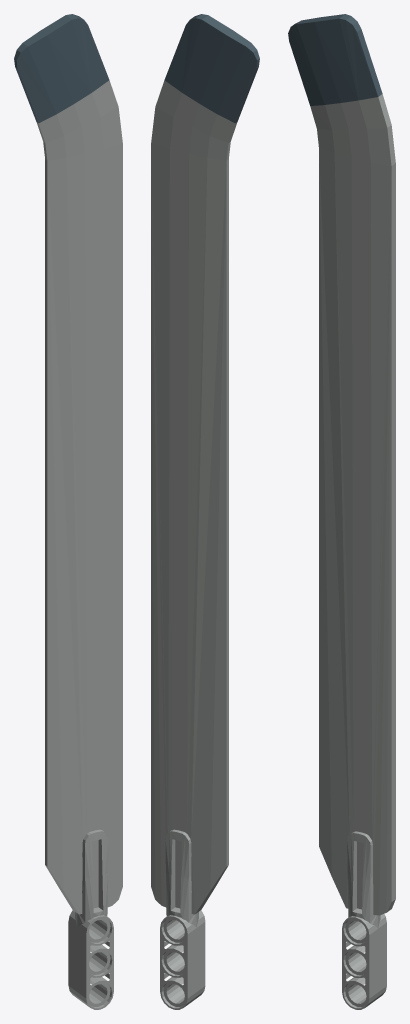
3 renders of one model, left to right at view 1: azimuth 30°, elevation 25°; view 2: azimuth 150°, elevation 25°; view 3: azimuth 330°, elevation 25°, orthographic.
Parts seen in each view (by area): view 1: world; view 2: world; view 3: world.
Boxes of the visible parts, left/top/right/bottom form: world: left=14, top=14, right=122, bottom=1009; world: left=151, top=14, right=259, bottom=1009; world: left=288, top=14, right=395, bottom=1009.
Size of the model in its own units: 0.0274 by 0.2467 by 0.008.
